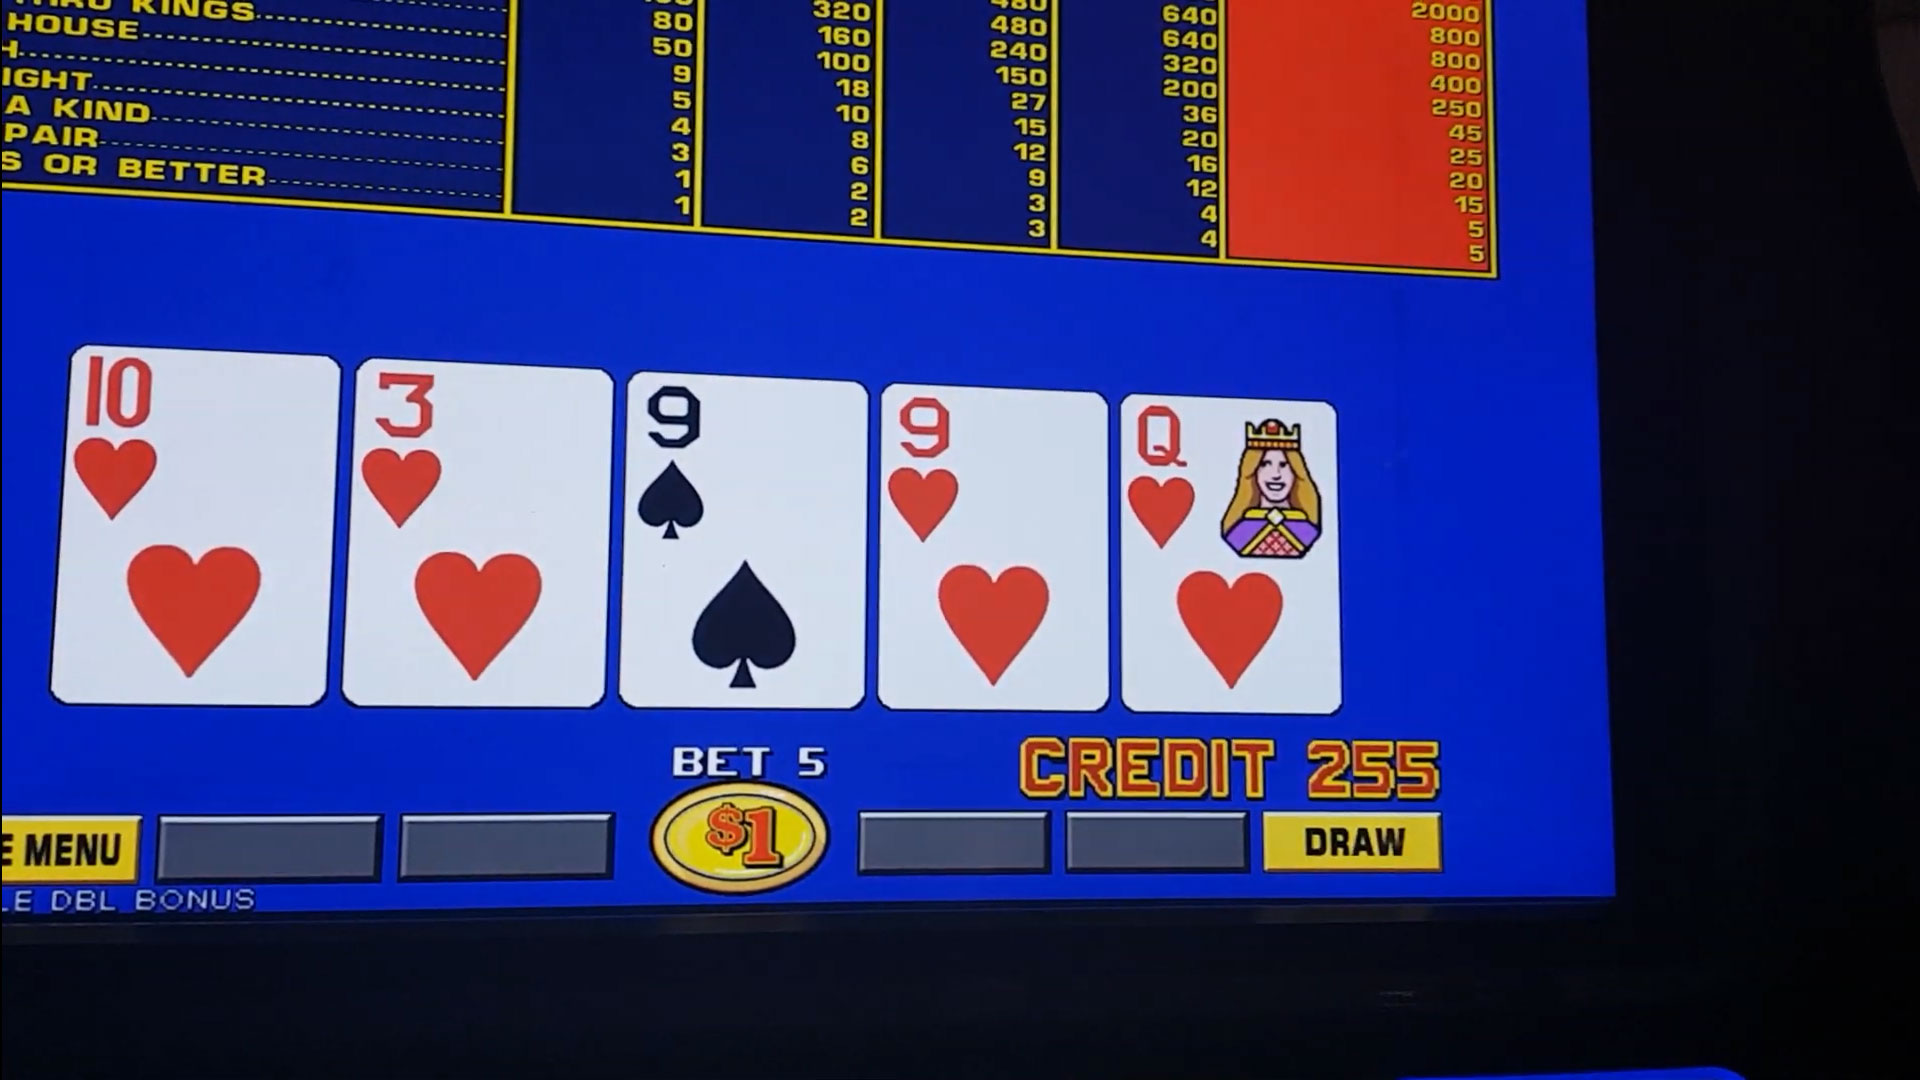H3: (353, 371, 611, 553)
H9: (884, 397, 1102, 560)
HQ: (1125, 407, 1331, 563)
HT: (78, 357, 327, 539)
S9: (637, 381, 860, 550)
